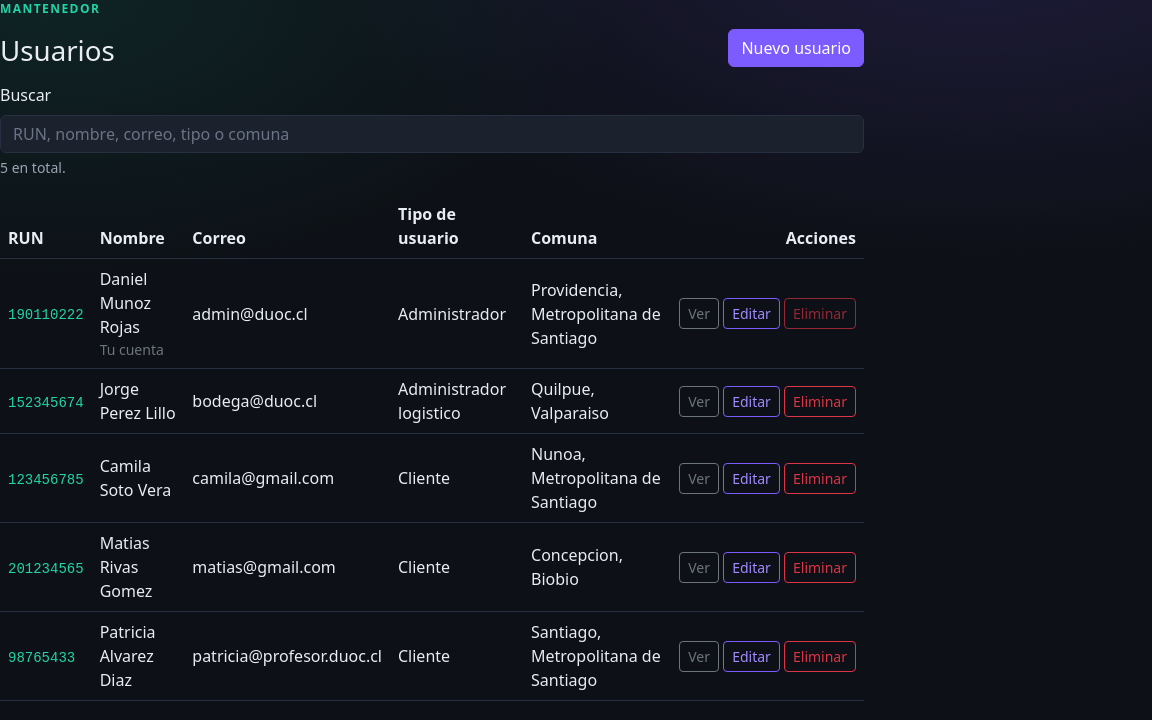
Test case: admin / Usuarios › eliminar (RF-11 CA6) › pide confirmacion con el nombre y el RUN, y cancelar no elimina
The image size is (1152, 720).
What coordinates should you click on to do the following:
click the button "Eliminar" in the row of "98765433"
I would click on:
 (820, 656)
Its box is left=784, top=641, right=856, bottom=672.
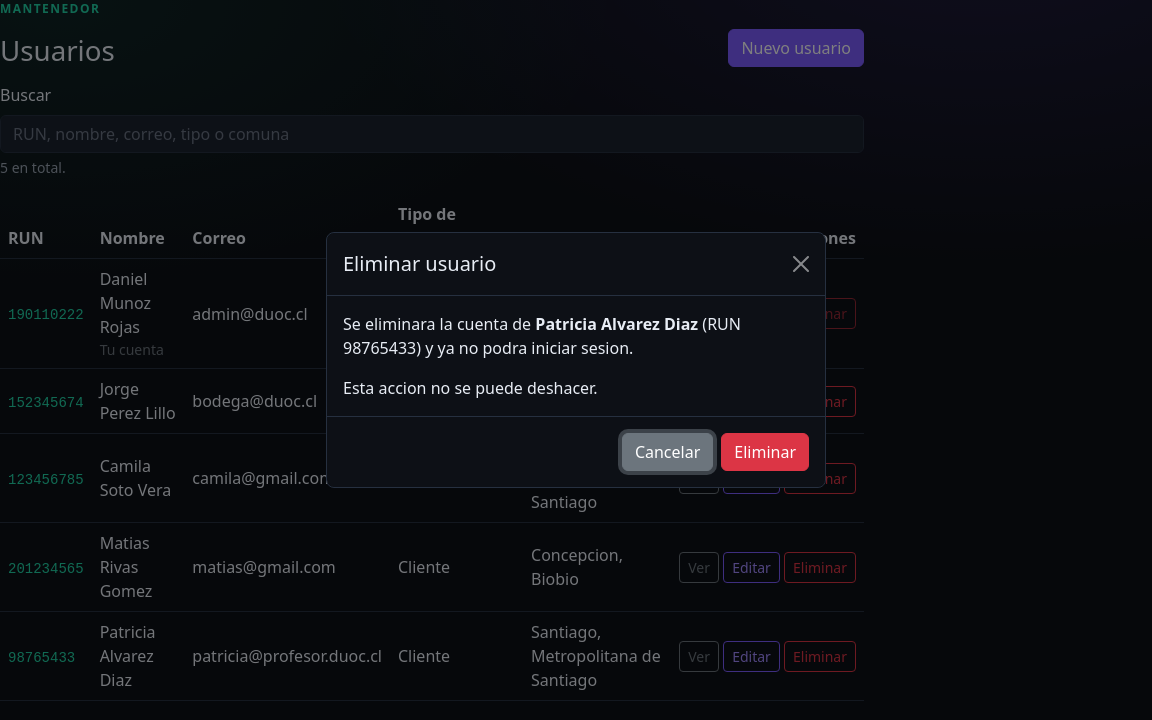
Result: the dialog "Eliminar usuario" shows "Patricia Alvarez Diaz" at left=326, top=232, right=826, bottom=488
Result: the dialog "Eliminar usuario" shows "RUN 98765433" at left=326, top=232, right=826, bottom=488
What coordinates should you click on to do the following:
click the button "Cancelar"
I would click on:
 (668, 452)
Its box is left=622, top=433, right=713, bottom=471.
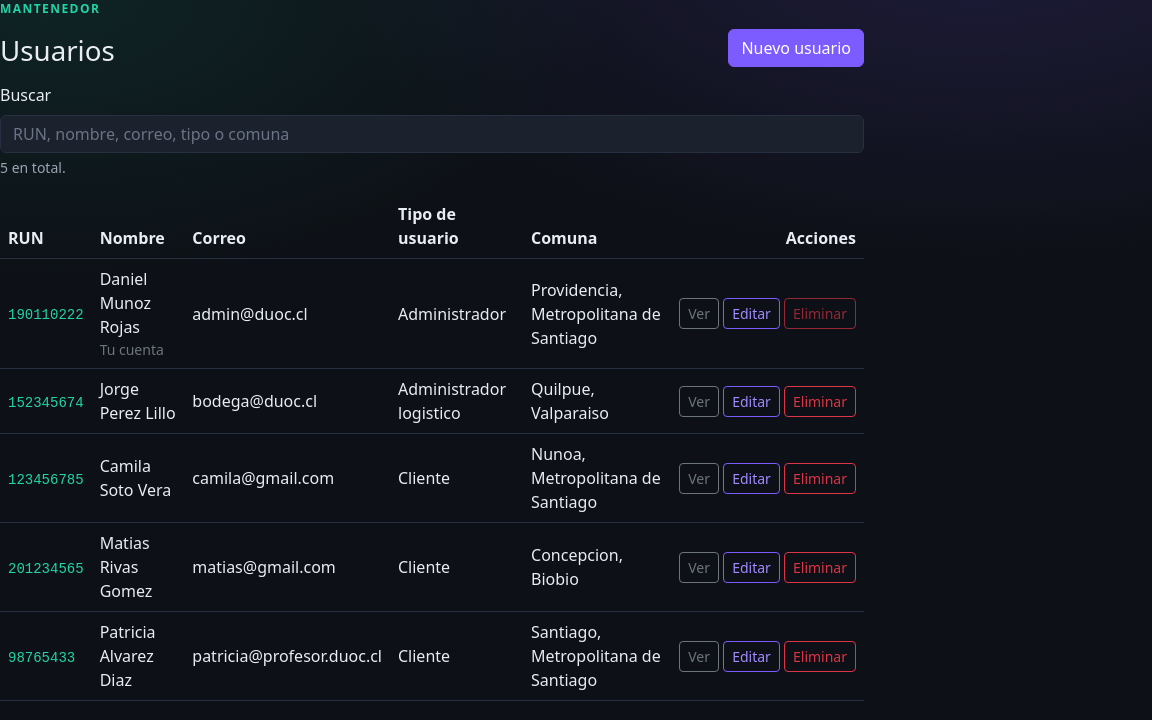
Result: the dialog is gone
